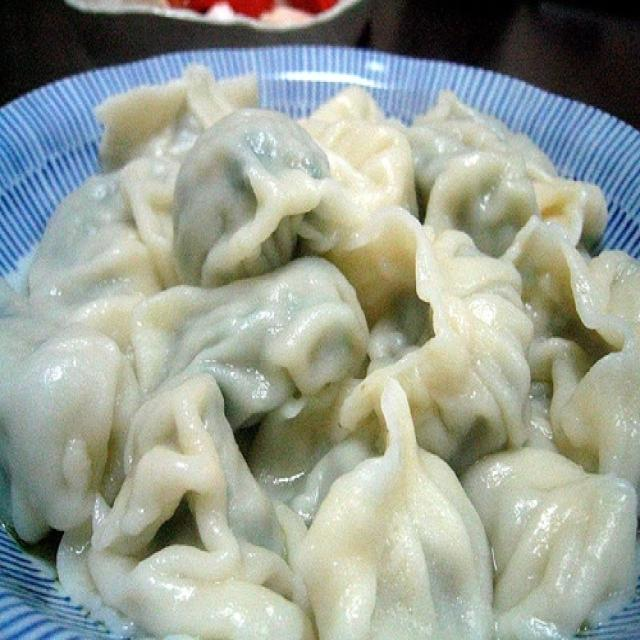带馅早点: (1, 66, 624, 626)
